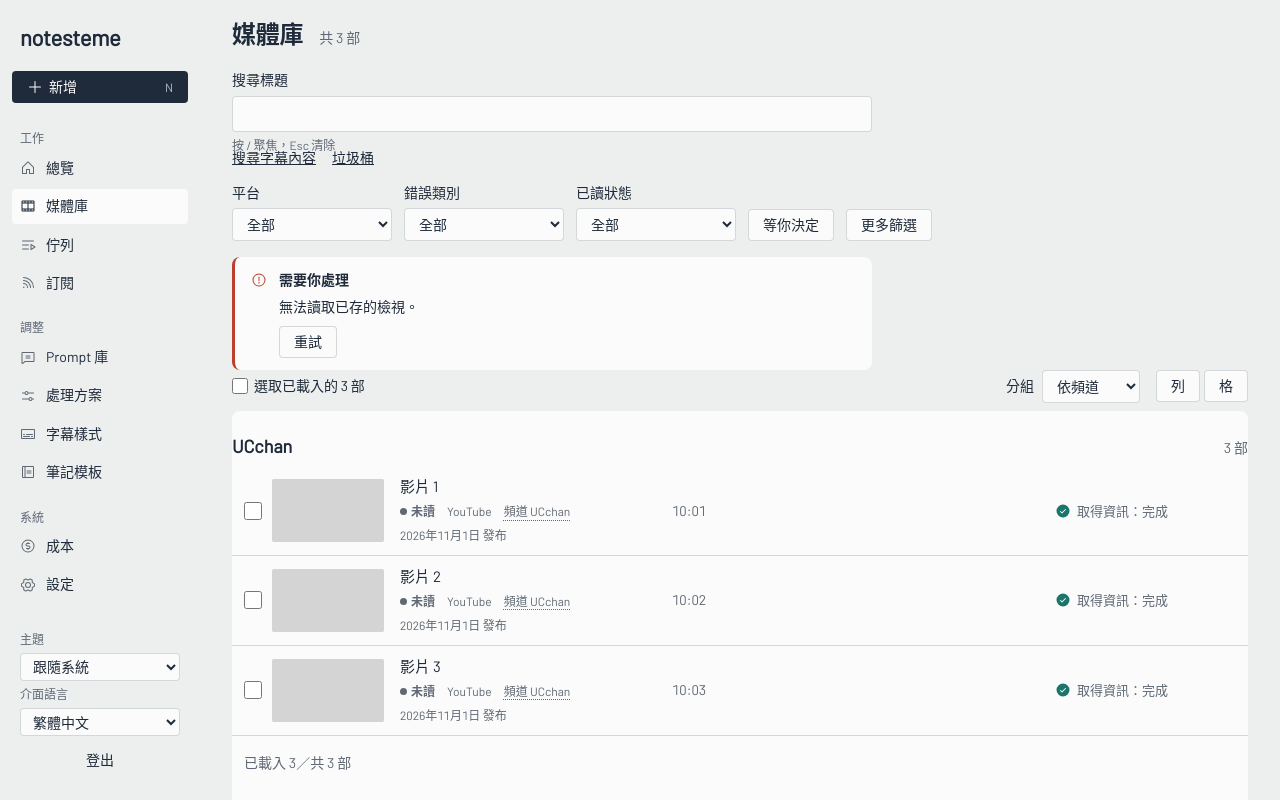
媒體庫：批次操作（LIB-08） › 重新處理：選步驟、預估費用、超過預算的警告；dry_run 不能處理的影音不送出
Click the checkbox named "選取「影片 1」" at (253, 511), box [244,502,262,520]
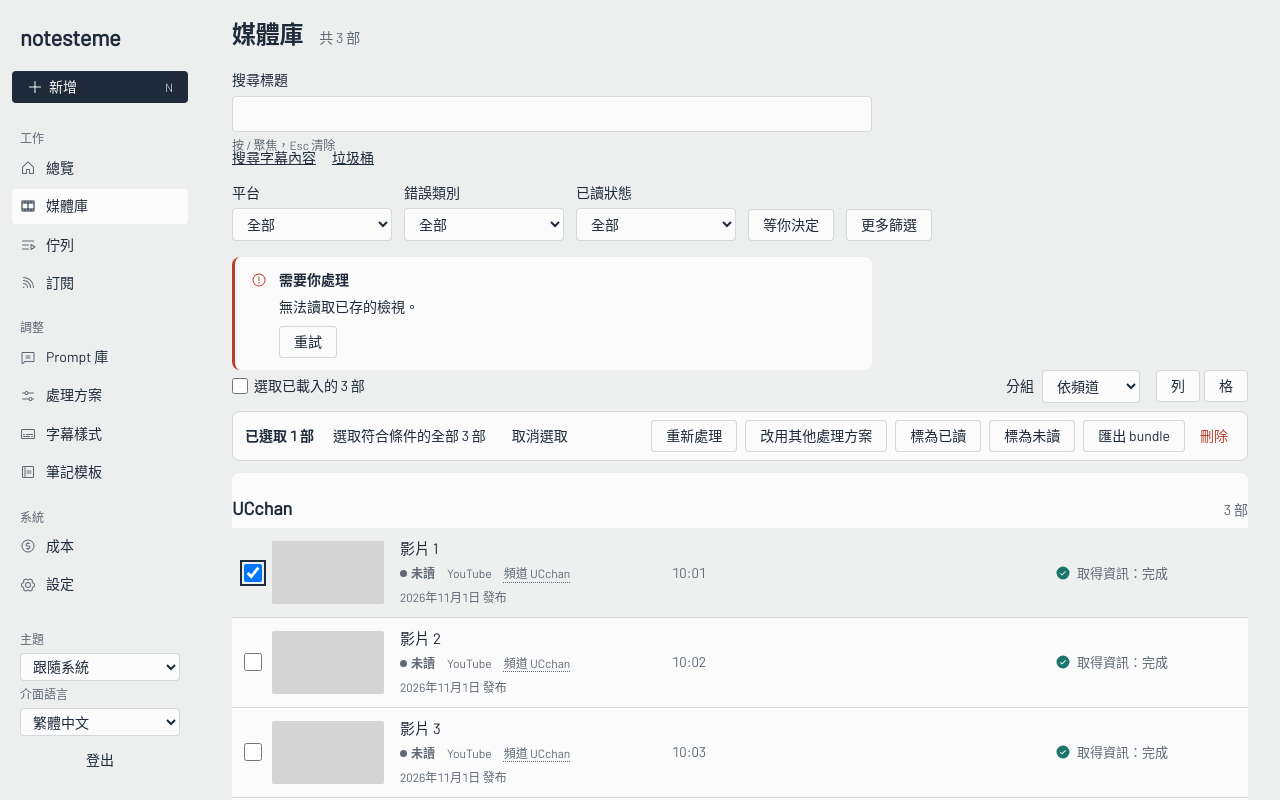
Click the checkbox named "選取「影片 2」" at (253, 662), box [244,653,262,671]
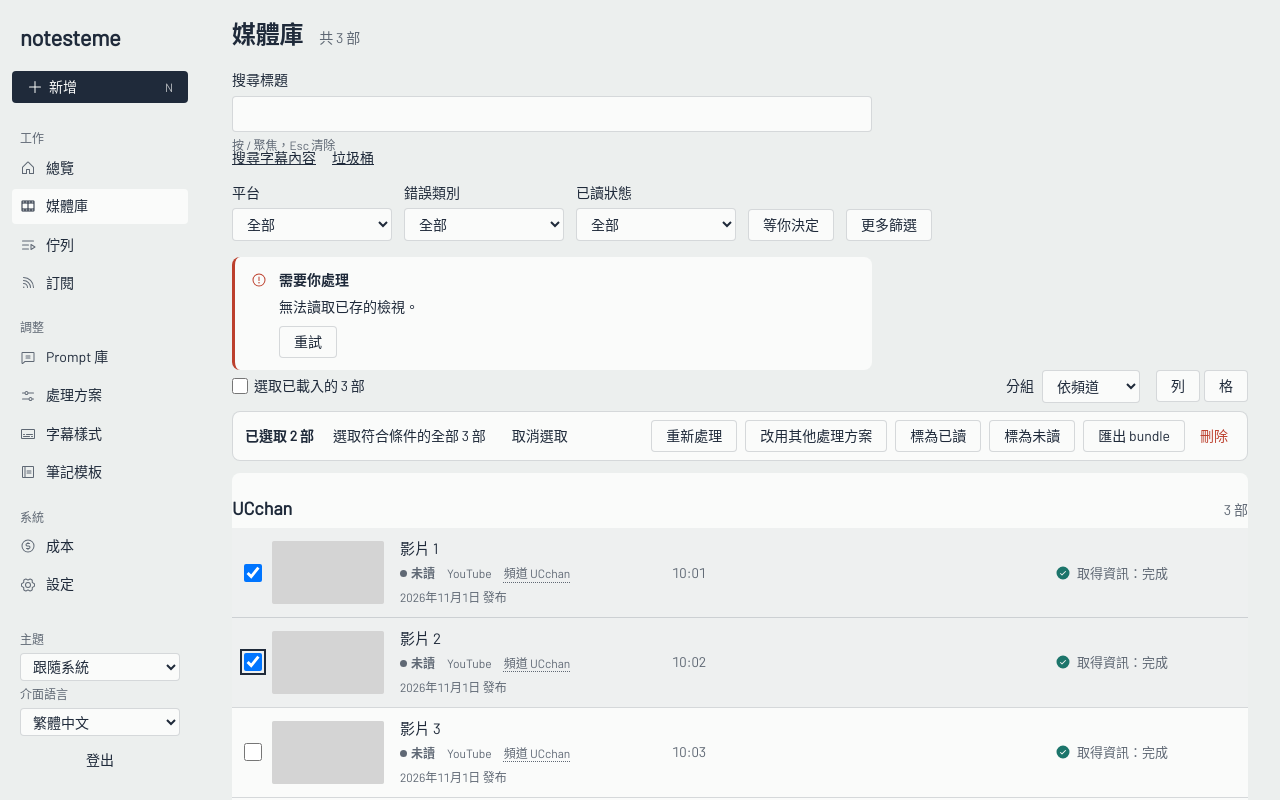
Click the button "重新處理" at (694, 436), box [651,420,737,452]
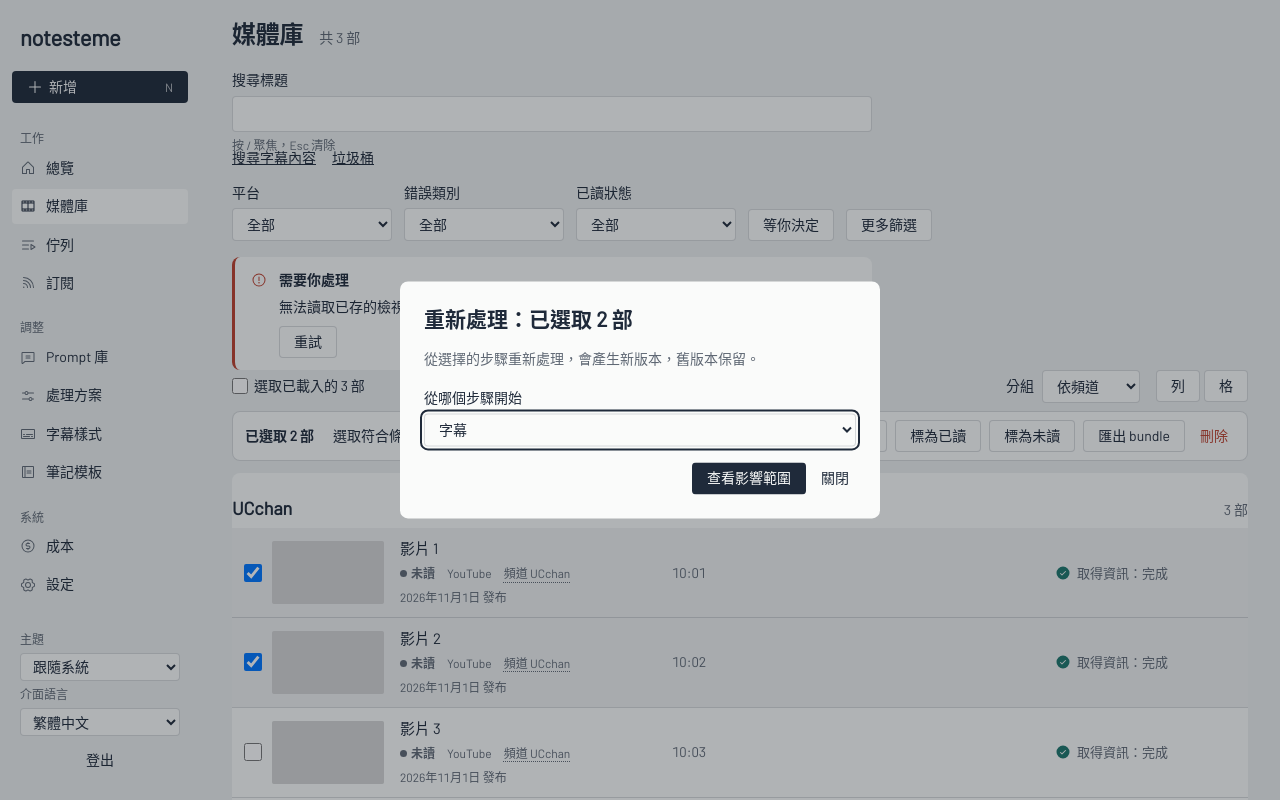
Select "校正" in the dropdown labelled "從哪個步驟開始" at (640, 430), box [424,414,856,446]
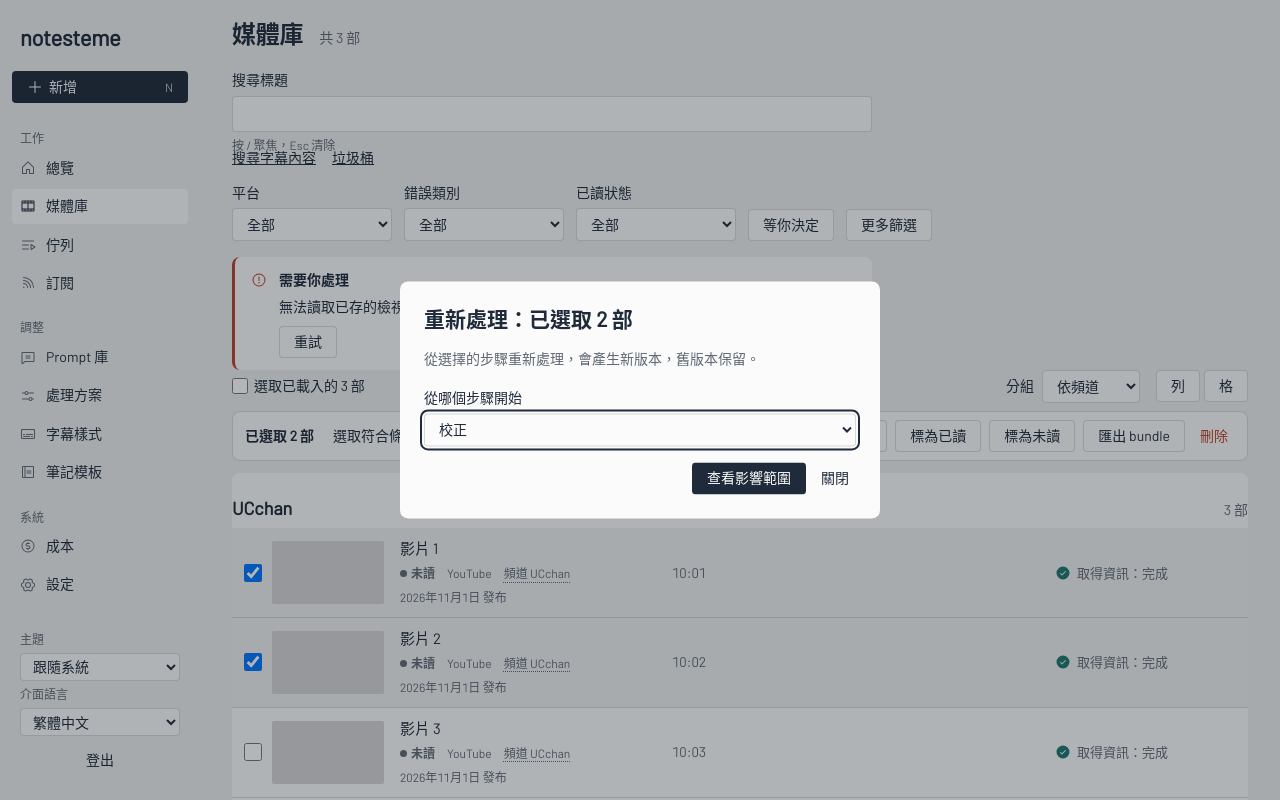
Click the button "查看影響範圍" at (749, 478), box [692,462,806,494]
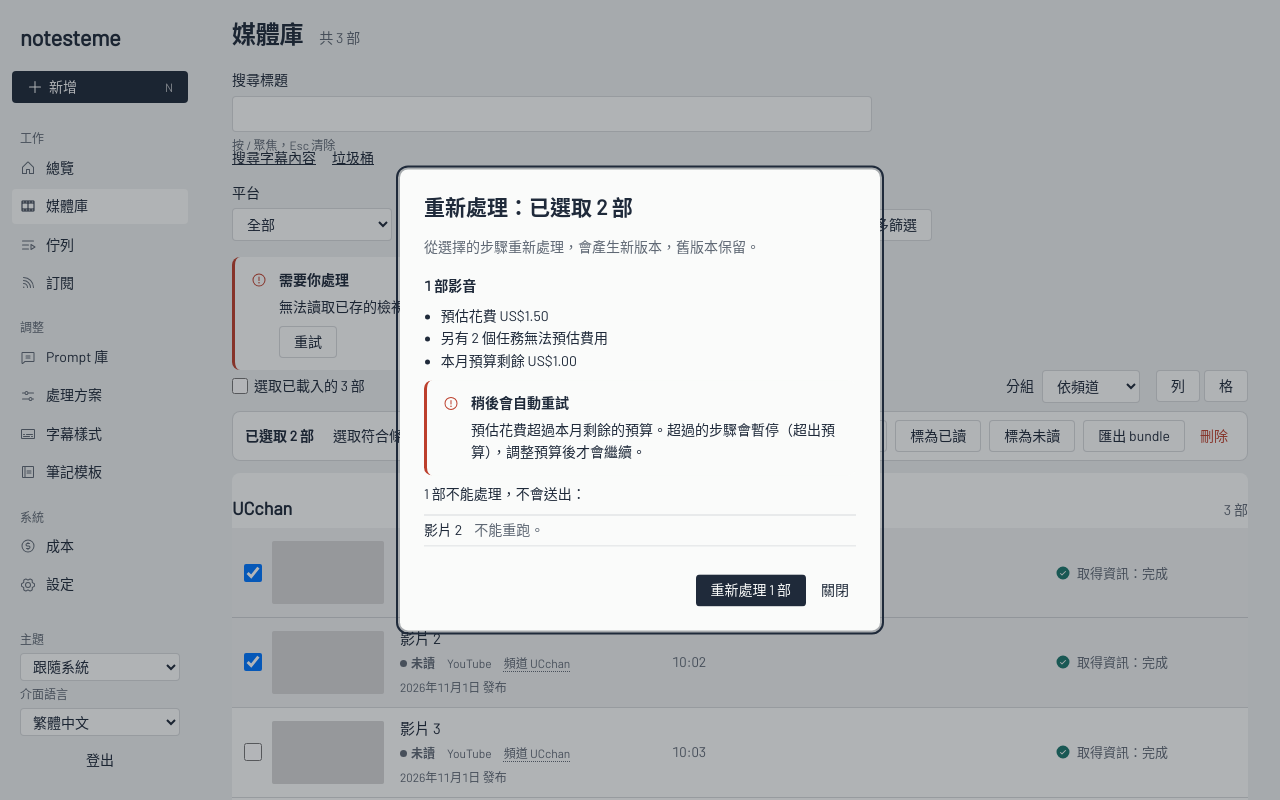
Check: the list item "預估花費 US$1.50" is shown, box [441,308,549,324]
Check: the list item "另有 2 個任務無法預估費用" is shown, box [441,330,608,347]
Check: the text "預估花費超過本月剩餘的預算。超過的步驟會暫停（超出預算），調整預算後才會繼續。" is shown, box [471,419,840,464]
Click the button "重新處理 1 部" at (751, 591), box [696,575,806,607]
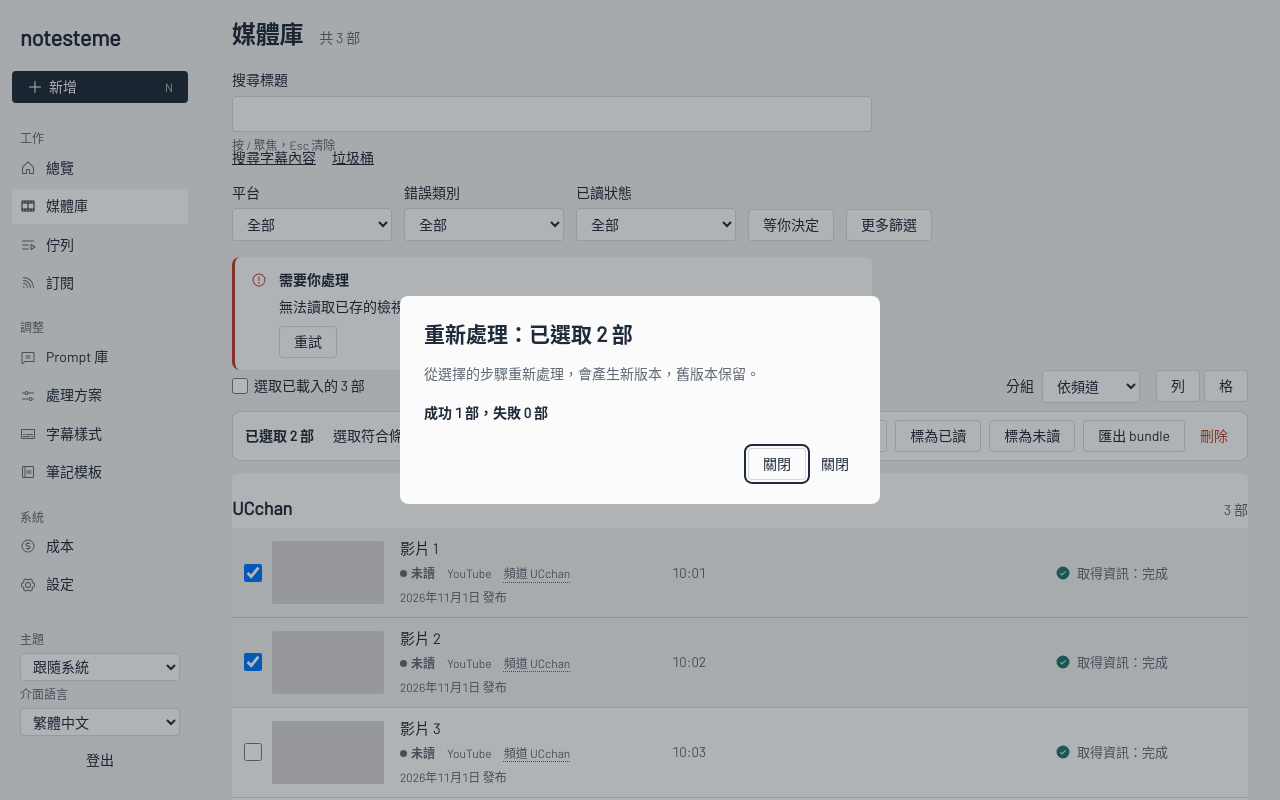
Check: the text "成功 1 部，失敗 0 部" is shown, box [424,404,548,421]
